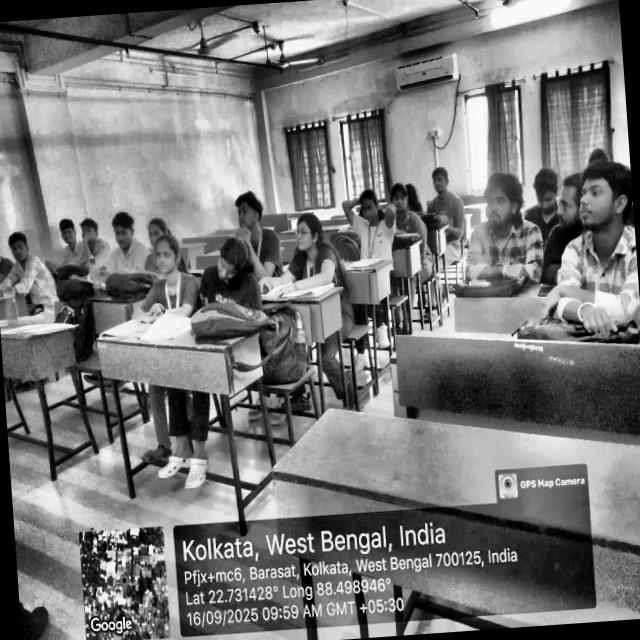Focus: (560, 132, 640, 312), (327, 174, 418, 286), (383, 152, 468, 242), (277, 204, 348, 309), (152, 229, 212, 325), (474, 165, 536, 256), (219, 168, 277, 250)
Not Focus: (28, 172, 173, 260), (0, 200, 82, 331), (206, 220, 273, 352), (530, 157, 632, 239), (518, 127, 572, 233)
